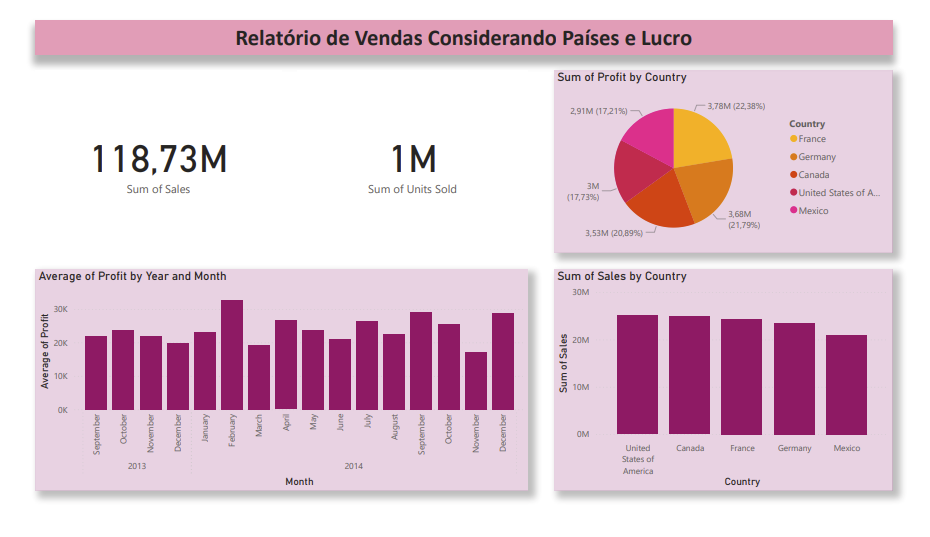

Layout of this report page (visuals, bound fields, positions):
{"tool":"powerbi","page":{"name":"Page 2","canvas":[1280,720],"ordinal":1},"visuals":[{"type":"textbox","box":[29.3,7.8,1216.2,49.2],"z":0},{"type":"card","fields":{"Values":["Sum(financials.Sales)"]},"box":[29,78,350,259],"z":1000},{"type":"card","fields":{"Values":["Sum(financials.Units Sold)"]},"box":[401,78,327,259],"z":2000},{"type":"pieChart","fields":{"Category":["financials.Country"],"Y":["Sum(financials.Profit)"]},"box":[765,78,480,259],"z":3000},{"type":"clusteredColumnChart","fields":{"Y":["Avg(financials.Profit)"],"Category":["financials.Date.Variation.Date Hierarchy.Year","financials.Date.Variation.Date Hierarchy.Month"]},"box":[29,360,699,314],"z":4000},{"type":"clusteredColumnChart","fields":{"Category":["financials.Country"],"Y":["Sum(financials.Sales)"]},"box":[765,360,480,314],"z":5000}]}

Visuals, with their boxes in screenshot pixels (x1, y1, x2, y2), scaled from the page's 1280x720 canvas onto the 930x537 screenshot:
textbox: (x1=21, y1=6, x2=905, y2=43)
card - Sum(financials.Sales): (x1=21, y1=58, x2=275, y2=251)
card - Sum(financials.Units Sold): (x1=291, y1=58, x2=529, y2=251)
pieChart - financials.Country x Sum(financials.Profit): (x1=556, y1=58, x2=905, y2=251)
clusteredColumnChart - Avg(financials.Profit) x financials.Date.Variation.Date Hierarchy.Year: (x1=21, y1=268, x2=529, y2=503)
clusteredColumnChart - financials.Country x Sum(financials.Sales): (x1=556, y1=268, x2=905, y2=503)
